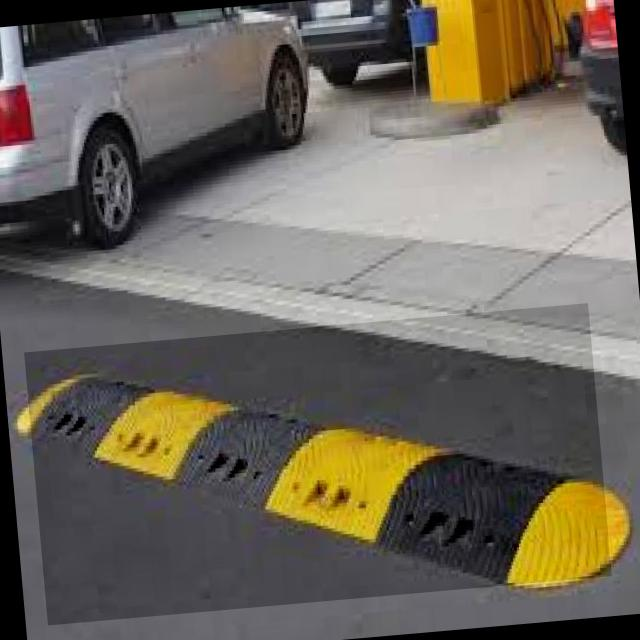bump: (24, 304, 612, 626)
